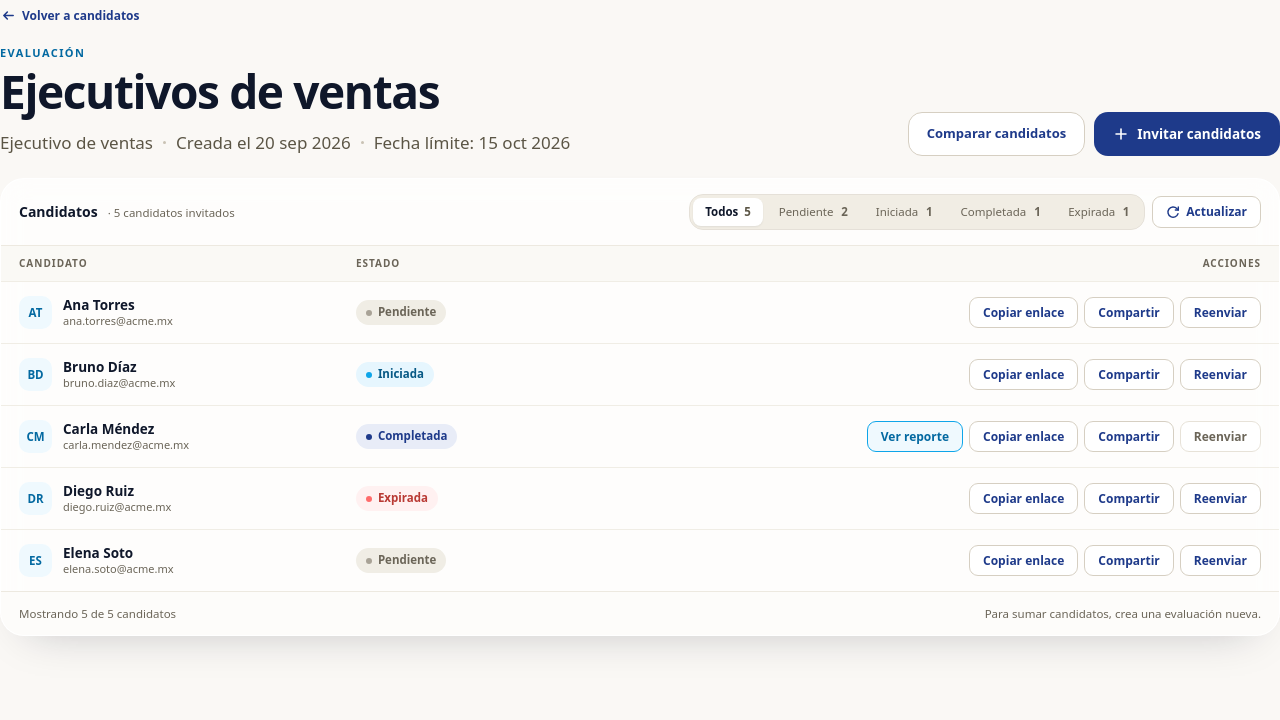
it: EvaluacionDetallePage · copiar y compartir › «Compartir» abre «Enlace de invitación» con mailto y wa.me del enlace real y la fecha límite
Click the button named "Compartir la invitación de Ana Torres" at (1129, 313), box [1084,297,1174,328]
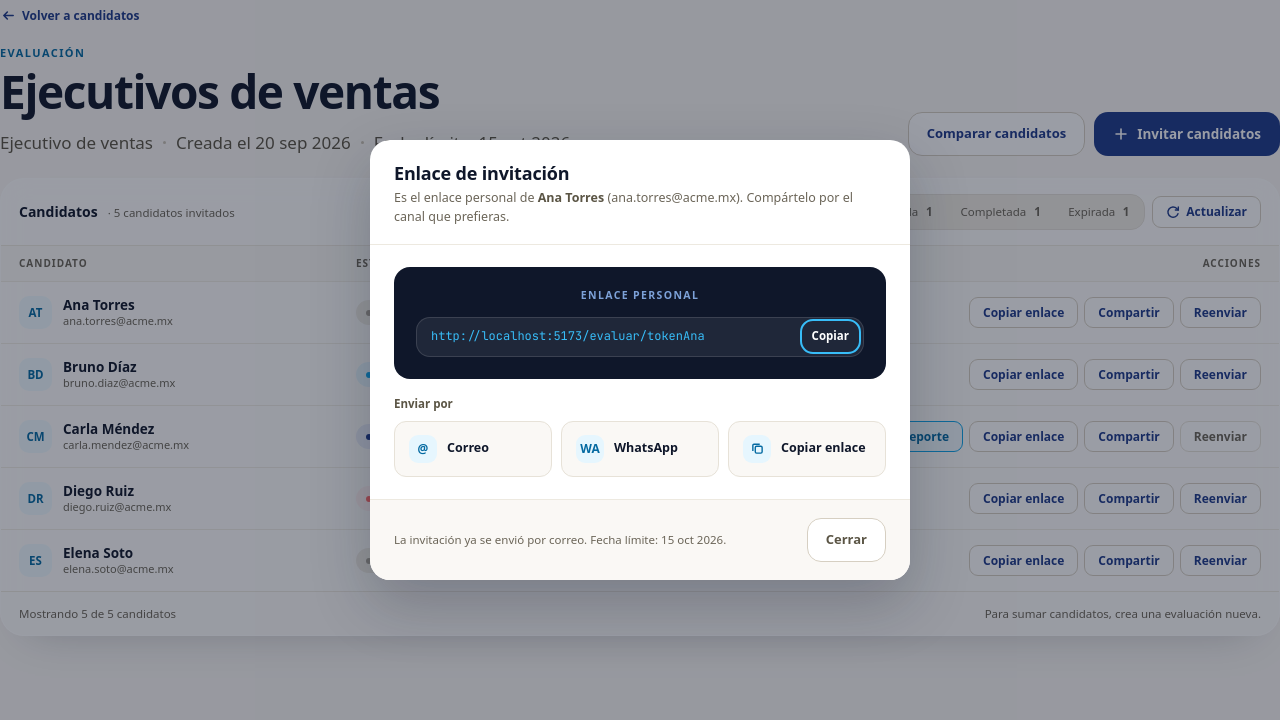
Now the text "La invitación ya se envió por correo" reads "La invitación ya se envió por correo. Fecha límite: 15 oct 2026.", box [394,532,726,547]
Click the button "Cerrar" at (846, 540), box [807,518,886,562]
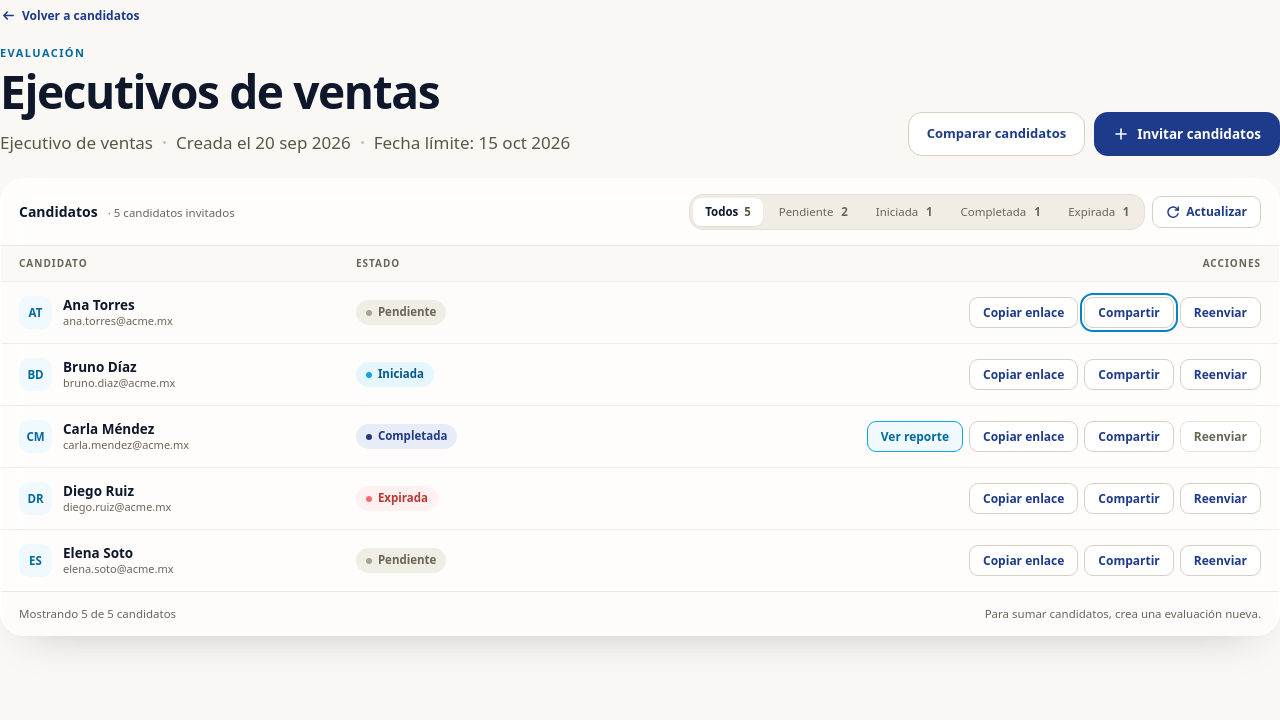
Now the dialog is gone
